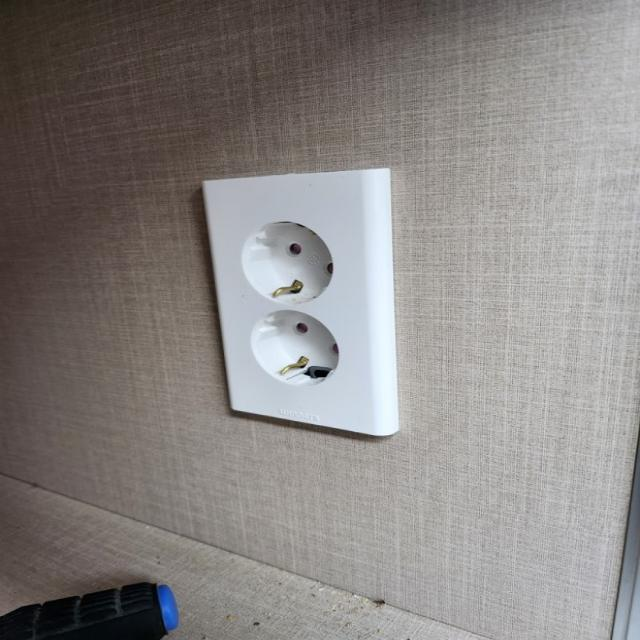typeb: (181, 108, 434, 477)
